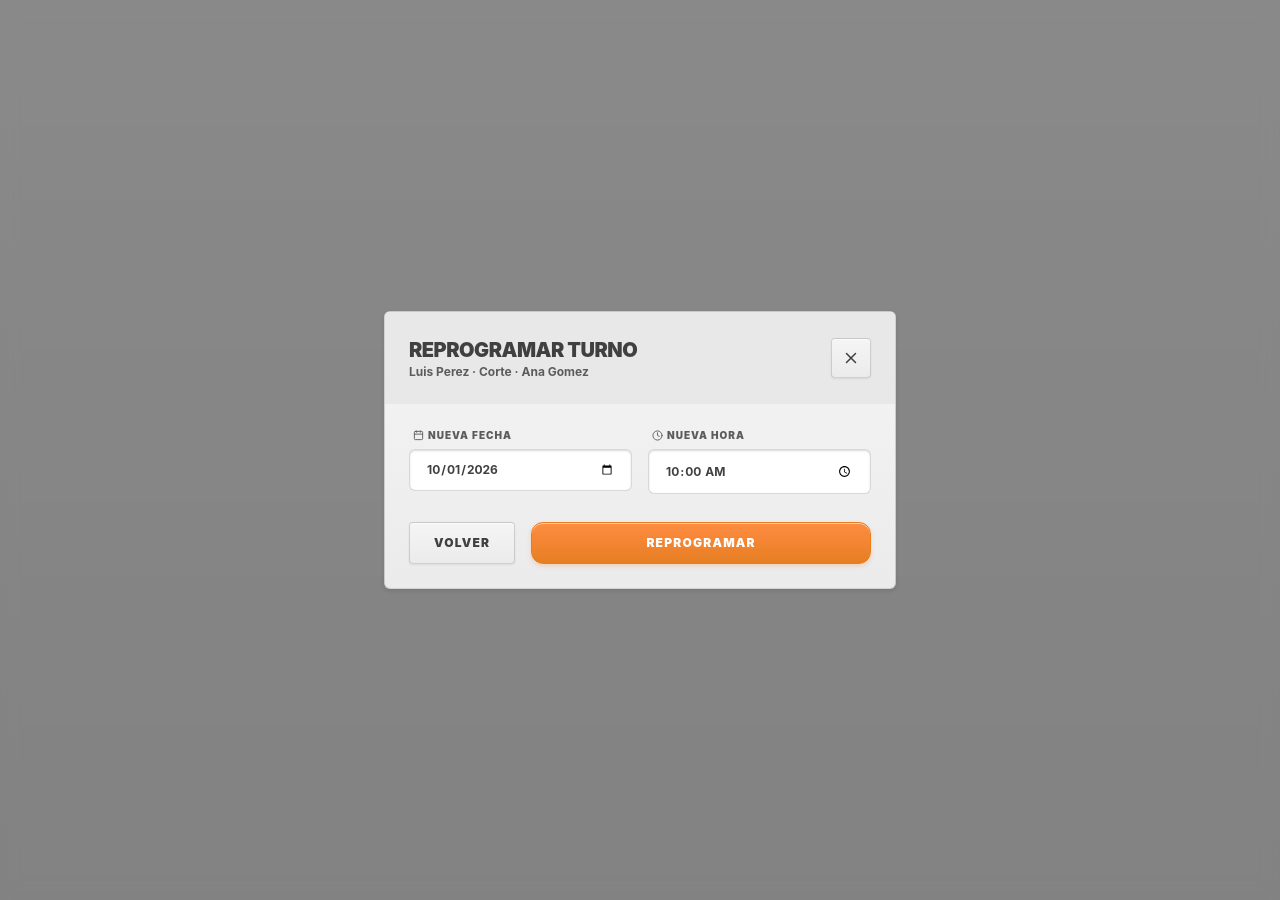
RescheduleAppointmentDialog (FF-31) › PERMISSION_DENIED explica que solo mueve los de su agenda
Click the button "Reprogramar". click: (701, 543)
box: [531,522,871,564]
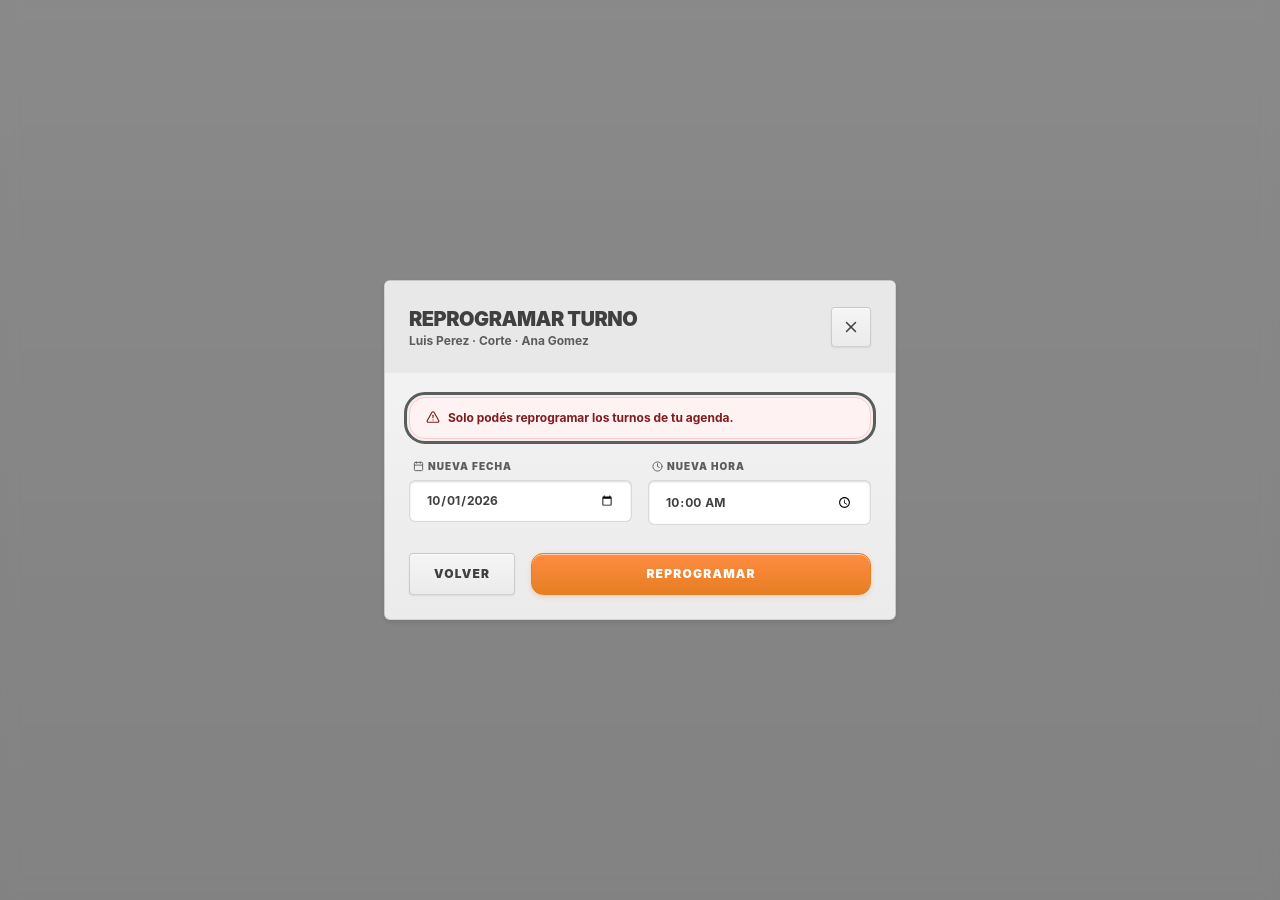
Expected: the message reads "Solo podés reprogramar los turnos de tu agenda.", [448,410,733,425]
